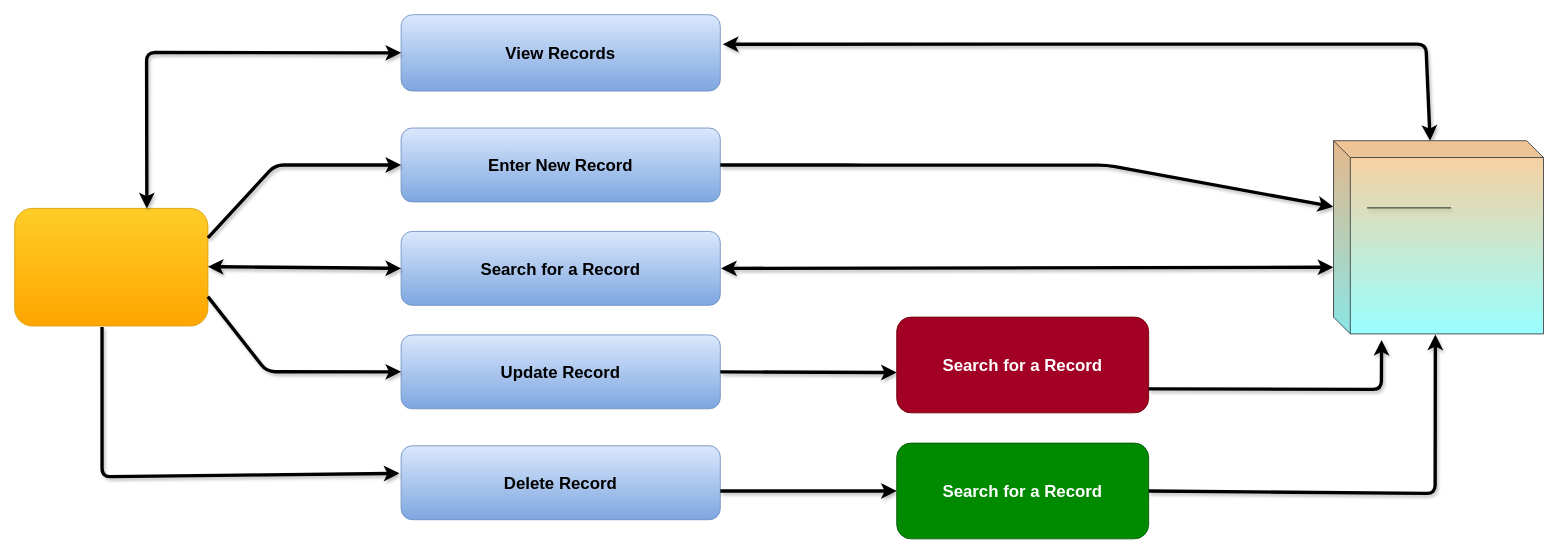
Image size: 1558x554. Some labels were removed from this diagram. Here are the shapes that lost their labels. From the top down, the centre of each, then its label:
At (x=1438, y=237): "FILE".
At (x=111, y=267): "User Interface".
